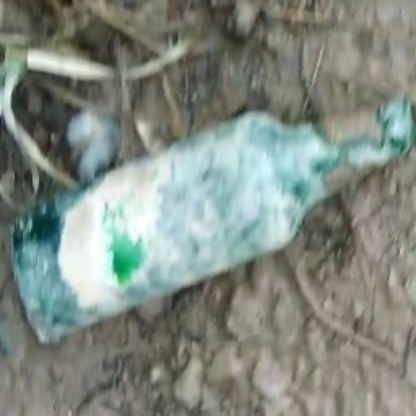bottle: (8, 89, 416, 344)
